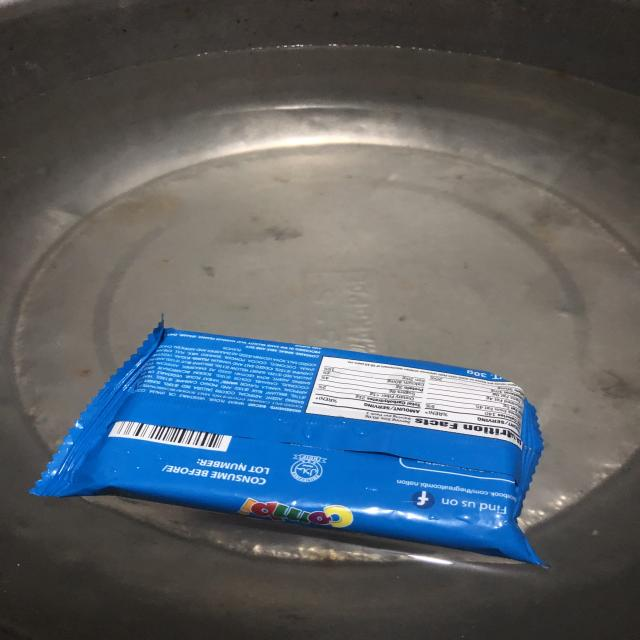Plastic Wrapper: (19, 300, 563, 583)
